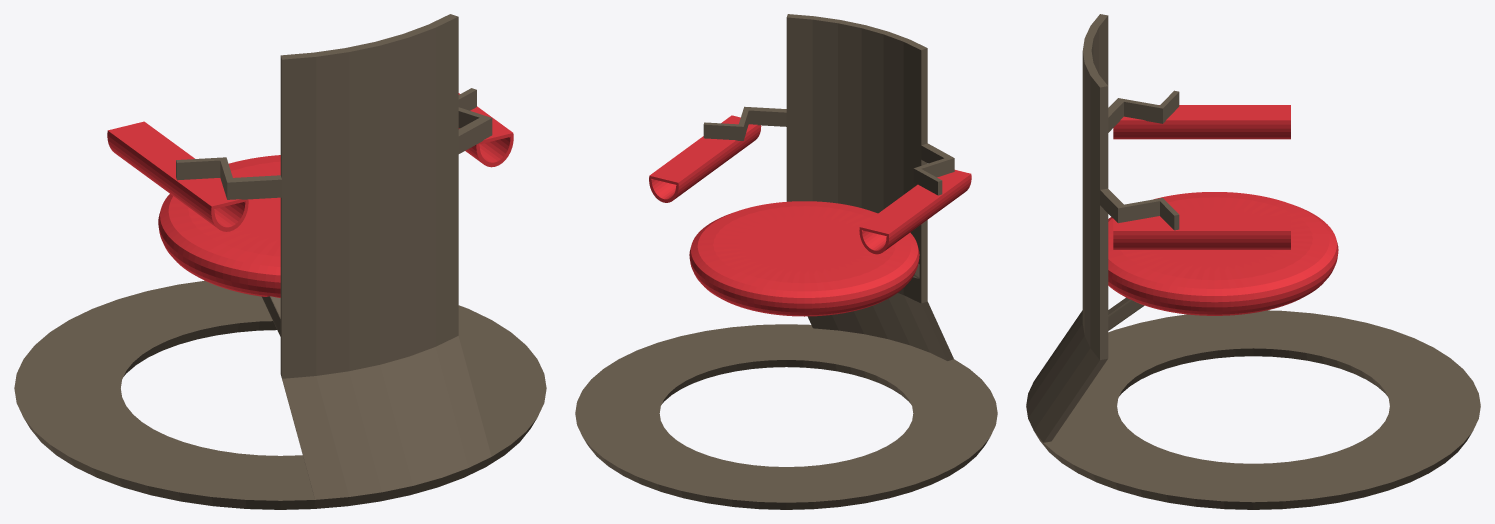
The model's file is ggj2019chair2.fbx.
The picture shows the model from 3 angles, left to right: view 1: azimuth 30°, elevation 25°; view 2: azimuth 150°, elevation 25°; view 3: azimuth 270°, elevation 25°; orthographic projection. The views are drawn at different scales.
Visible parts, largest first — view 1: Torus, Torus.002, Cylinder; view 2: Torus, Torus.002, Cylinder; view 3: Torus, Torus.002, Cylinder, Cube.
Boxes of the visible parts, box(x1,y1,x2,y2) form: Torus: box(14, 14, 546, 509); Torus.002: box(158, 155, 280, 297); Cylinder: box(107, 93, 513, 231); Torus: box(575, 14, 997, 509); Torus.002: box(689, 201, 919, 316); Cylinder: box(649, 115, 971, 254); Torus: box(1026, 14, 1480, 509); Torus.002: box(1108, 192, 1338, 315); Cylinder: box(1113, 105, 1290, 249); Cube: box(1108, 297, 1144, 330).
Size of the model in its own units: 184 by 163 by 184.
